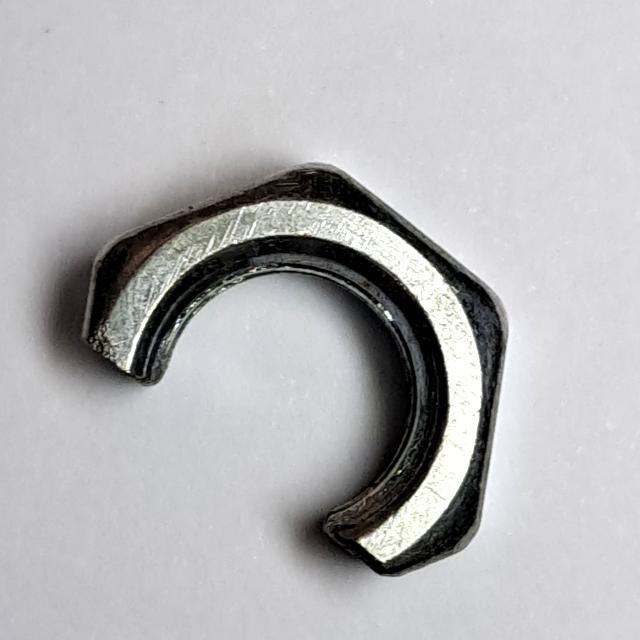Fracture: (70, 136, 516, 587)
